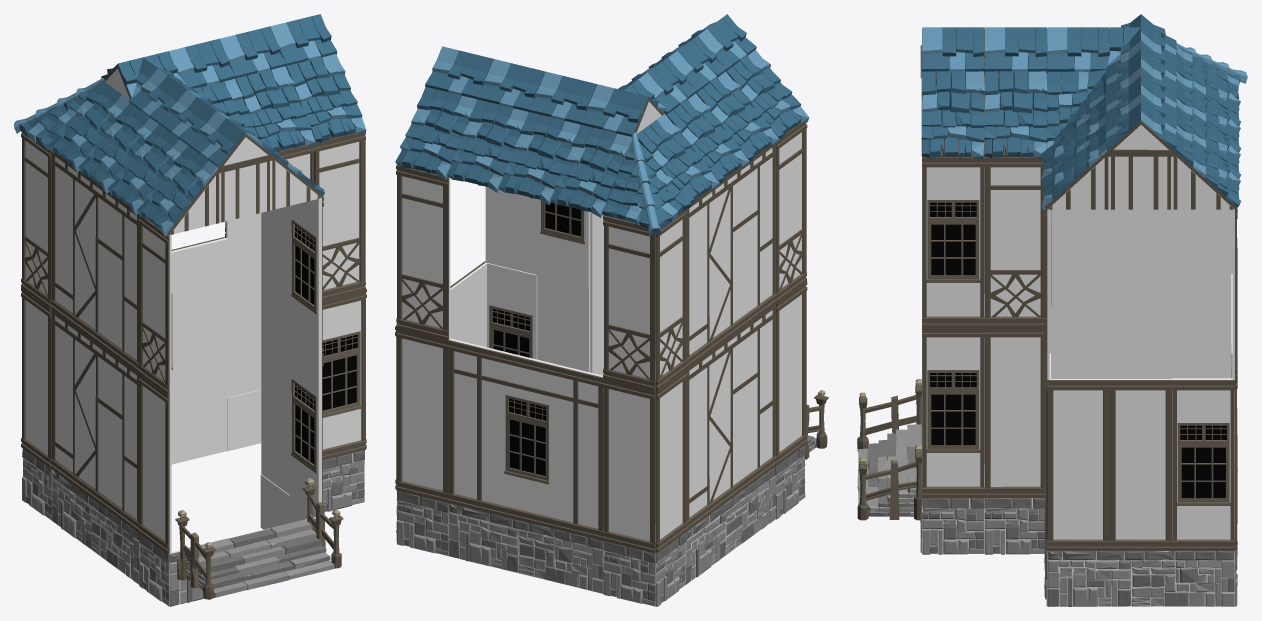
Rendered from House_12_parts.fbx.
3 renders of one model, left to right at view 1: azimuth 30°, elevation 25°; view 2: azimuth 150°, elevation 25°; view 3: azimuth 270°, elevation 25°, orthographic. The views are drawn at different scales.
Visible parts, largest first — view 1: WALL_05_3, WALL_05_2, STAIRS_03_2, WINDOW_03_2, WALL_04_4, WINDOW_04_4, WALL_03_7, WALL_04_8, WALL_03_10, WINDOW_04_3, WINDOW_04_6, WALL_03_9 (+34 smaller); view 2: WINDOW_03_2, WALL_05_3, WALL_05_2, WALL_04_5, WALL_03_8, WALL_03_7, WALL_04_6, FOUNDATION_02_18, WALL_03_9, WALL_04_7, WALL_04_8, WALL_03_10 (+29 smaller); view 3: WALL_05_2, WINDOW_04_5, WALL_03_6, WALL_03_5, WINDOW_04_3, WINDOW_04_6, FOUNDATION_02_17, WALL_03_3, WALL_04_3, WALL_03_9, STAIRS_03_2, ROOF_base_4 (+31 smaller).
Boxes of the visible parts, left/top/right/bottom form: WALL_05_3: left=51, top=150, right=139, bottom=372; WALL_05_2: left=51, top=310, right=139, bottom=531; STAIRS_03_2: left=175, top=478, right=343, bottom=599; WINDOW_03_2: left=171, top=237, right=227, bottom=411; WALL_04_4: left=314, top=133, right=365, bottom=300; WINDOW_04_4: left=322, top=290, right=365, bottom=460; WALL_03_7: left=227, top=230, right=261, bottom=397; WALL_04_8: left=138, top=214, right=171, bottom=394; WALL_03_10: left=138, top=374, right=171, bottom=554; WINDOW_04_3: left=289, top=337, right=323, bottom=514; WINDOW_04_6: left=289, top=197, right=323, bottom=357; WALL_03_9: left=21, top=288, right=51, bottom=468; WINDOW_03_2: left=447, top=338, right=603, bottom=540; WALL_05_3: left=686, top=144, right=776, bottom=368; WALL_05_2: left=686, top=304, right=776, bottom=530; WALL_04_5: left=396, top=165, right=450, bottom=340; WALL_03_8: left=603, top=378, right=655, bottom=553; WALL_03_7: left=396, top=328, right=448, bottom=502; WALL_04_6: left=603, top=215, right=655, bottom=390; FOUNDATION_02_18: left=449, top=503, right=604, bottom=593; WALL_03_9: left=655, top=369, right=687, bottom=552; WALL_04_7: left=656, top=208, right=687, bottom=390; WALL_04_8: left=775, top=122, right=807, bottom=303; WALL_03_10: left=775, top=282, right=807, bottom=465; WALL_05_2: left=1051, top=249, right=1172, bottom=378; WINDOW_04_5: left=1172, top=378, right=1234, bottom=550; WALL_03_6: left=1110, top=379, right=1172, bottom=550; WALL_03_5: left=1047, top=379, right=1109, bottom=550; WINDOW_04_3: left=922, top=328, right=984, bottom=498; WINDOW_04_6: left=922, top=157, right=984, bottom=327; FOUNDATION_02_17: left=1047, top=551, right=1234, bottom=606; WALL_03_3: left=984, top=328, right=1045, bottom=497; WALL_04_3: left=984, top=157, right=1045, bottom=327; WALL_03_9: left=1172, top=248, right=1232, bottom=378; STAIRS_03_2: left=857, top=379, right=921, bottom=520; ROOF_base_4: left=984, top=70, right=1047, bottom=159.
Size of the model in its own units: 519 by 859 by 624.
